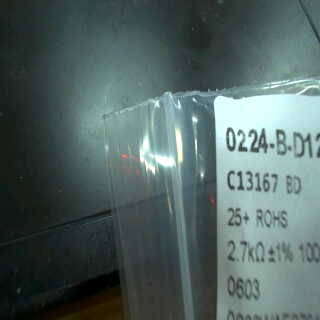2.7kR: (221, 238, 266, 268)
